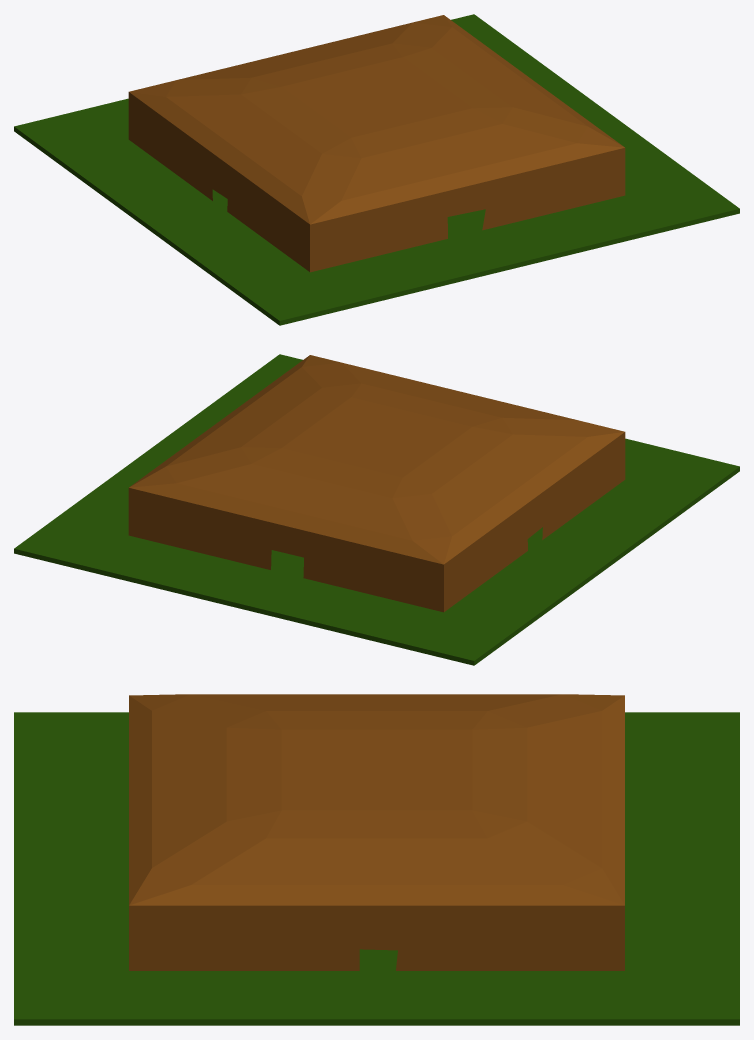
File: Barn.gltf
3 views of the same model, one above another, from view 1: azimuth 30°, elevation 25°; view 2: azimuth 150°, elevation 25°; view 3: azimuth 270°, elevation 25° (orthographic). The views are drawn at different scales.
Parts seen in each view (by area): view 1: Barn, Floor; view 2: Barn, Floor; view 3: Barn, Floor.
Boxes of the visible parts, x1=… form: Barn: x1=128, y1=15, x2=625, y2=272; Floor: x1=14, y1=14, x2=739, y2=325; Barn: x1=128, y1=355, x2=625, y2=612; Floor: x1=14, y1=354, x2=739, y2=665; Barn: x1=129, y1=694, x2=624, y2=970; Floor: x1=14, y1=712, x2=739, y2=1025.
Size of what is drawn, in the model's own units: 100 by 15.55 by 100.
